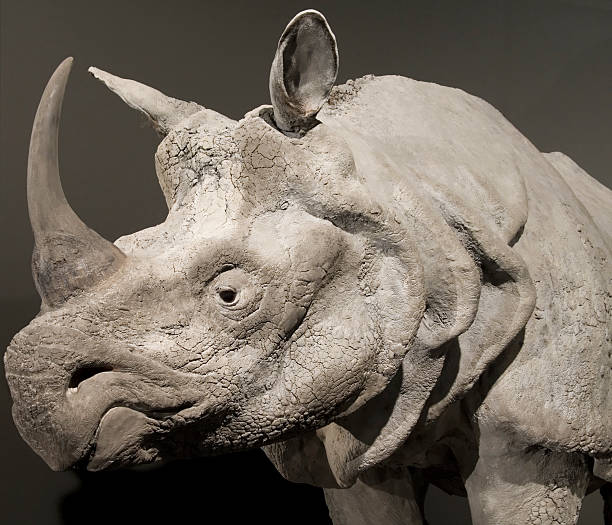rhino: (7, 4, 556, 525)
